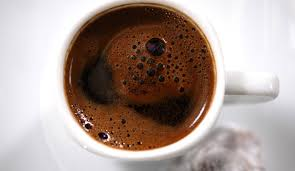kahve: (62, 1, 220, 155)
